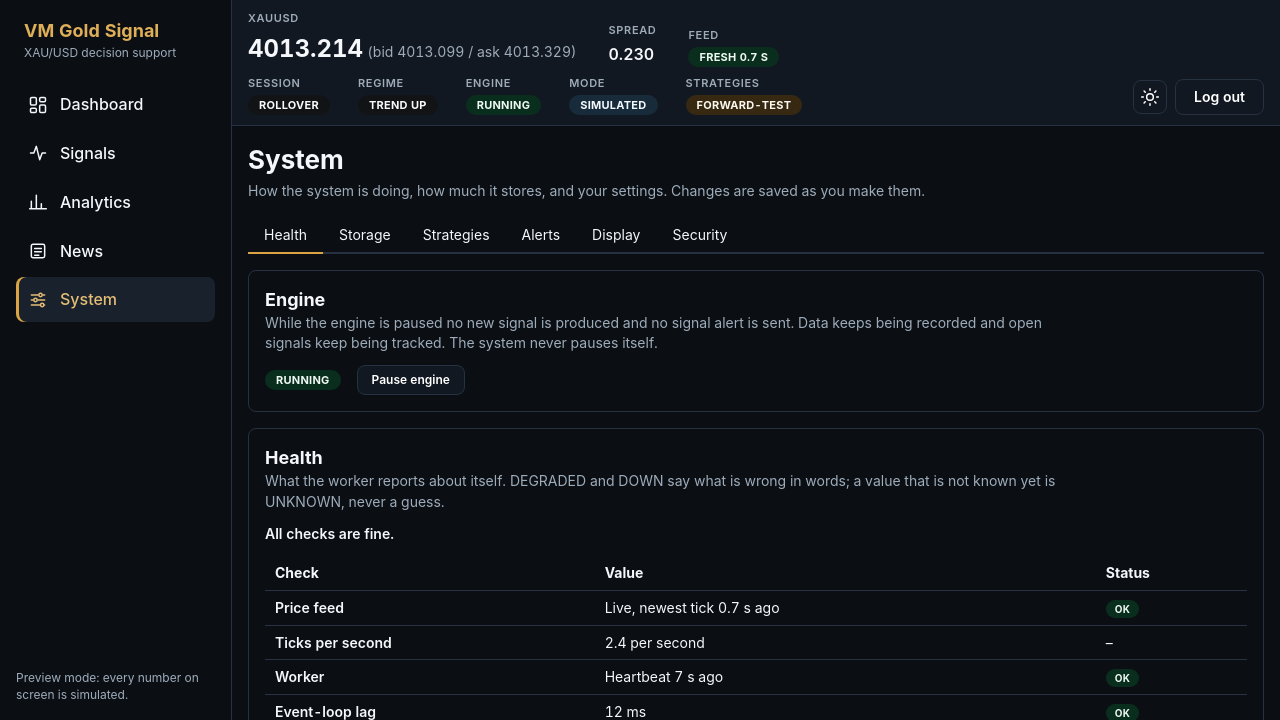
Scenario: the health tab › the engine card › does nothing when the question is cancelled
Expected: the tab "Health" is shown, [248,218,323,254]
Click the button with test id "health-pause".
click(411, 380)  # box [356,365,465,395]
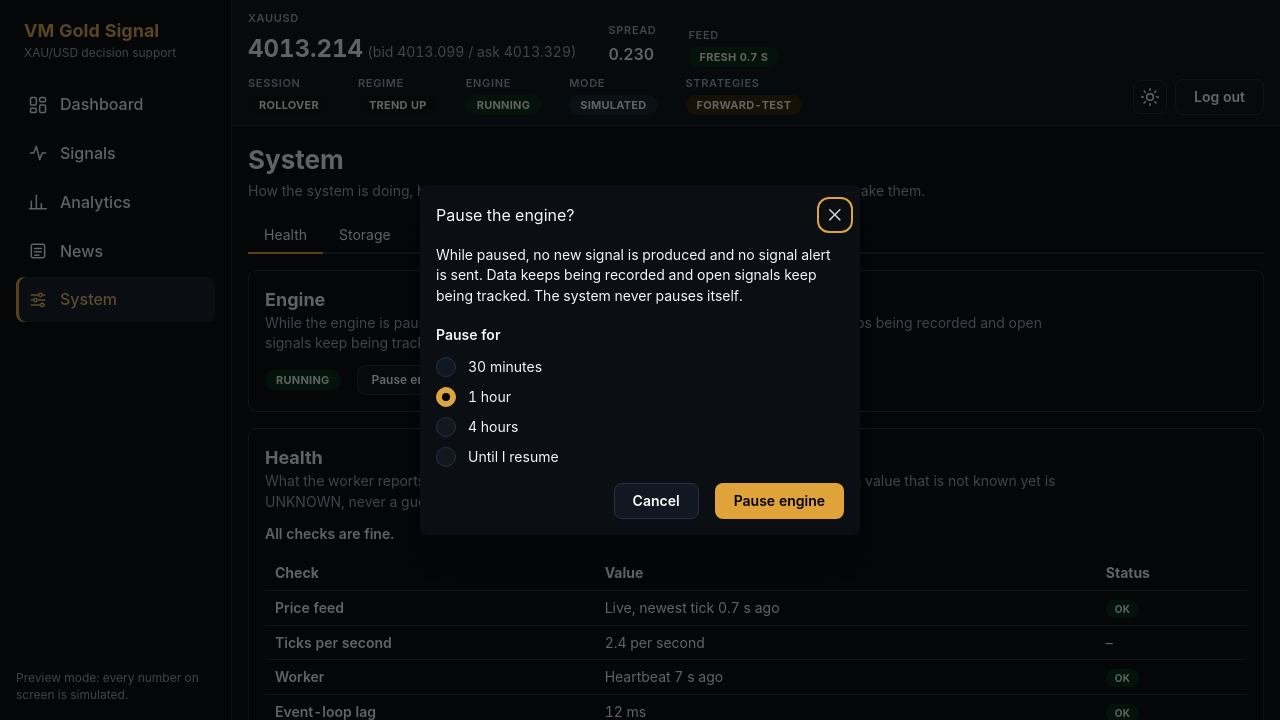
Click the button "Cancel".
click(656, 501)  # box [614,483,699,519]
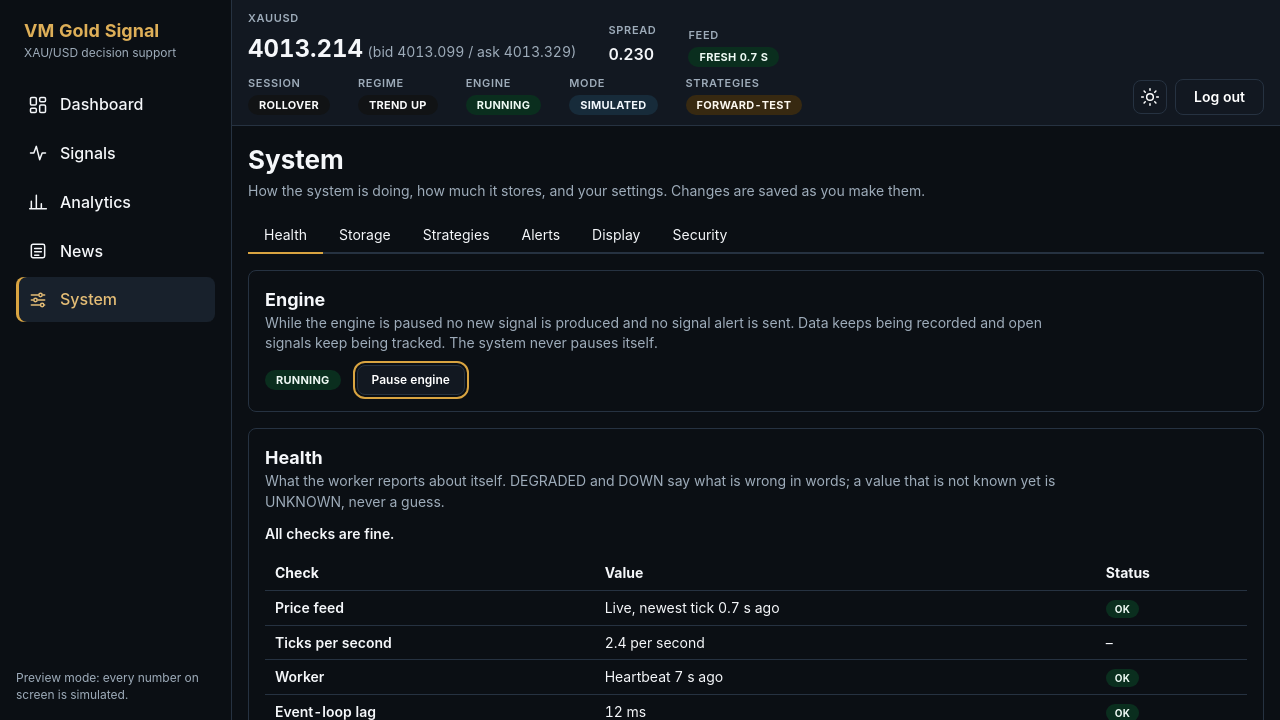
Expected: the element with test id "health-engine-status" reads "RUNNING", [276,373,330,387]
Expected: the element with test id "pause-dialog" is gone
